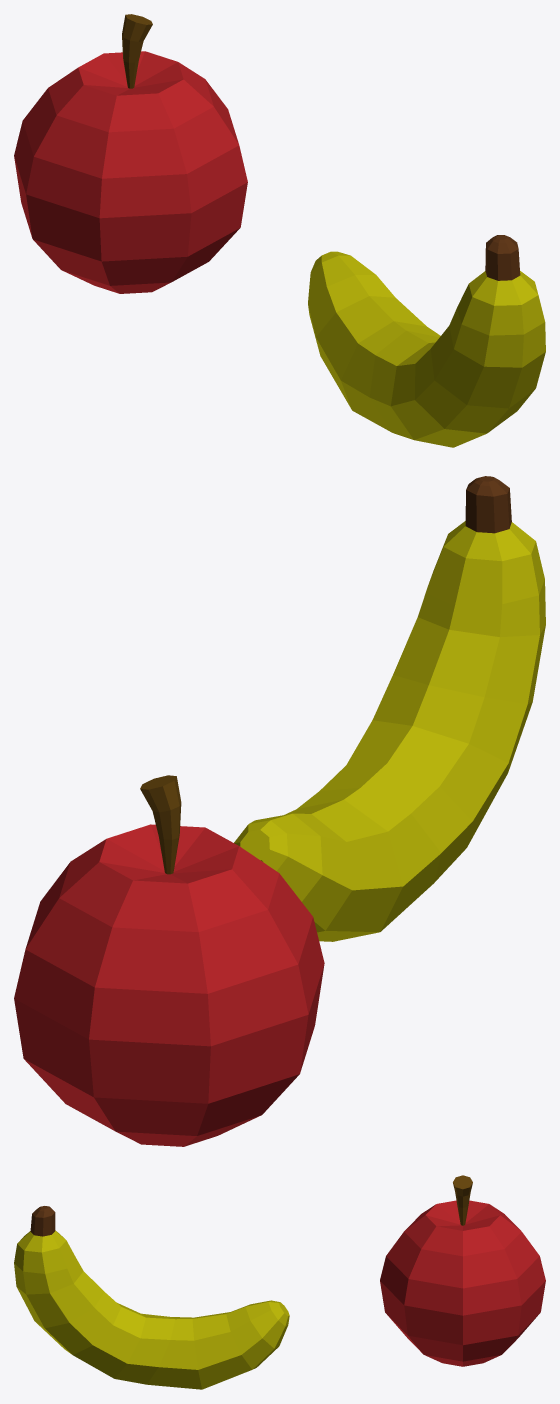
Rendered from frutas.fbx.
The picture shows the model from 3 angles, top to bottom: view 1: azimuth 30°, elevation 25°; view 2: azimuth 150°, elevation 25°; view 3: azimuth 270°, elevation 25°; orthographic projection. The views are drawn at different scales.
Visible parts, largest first — view 1: Cylinder.001, Cylinder; view 2: Cylinder.001, Cylinder; view 3: Cylinder, Cylinder.001.
Part boxes in pixels (x1,y1,x2,y2): Cylinder.001: (14,14,247,293); Cylinder: (308,235,545,447); Cylinder.001: (14,775,324,1146); Cylinder: (234,476,545,941); Cylinder: (14,1206,289,1389); Cylinder.001: (380,1175,545,1366).
Size of the model in its own units: 158 by 189 by 479.
